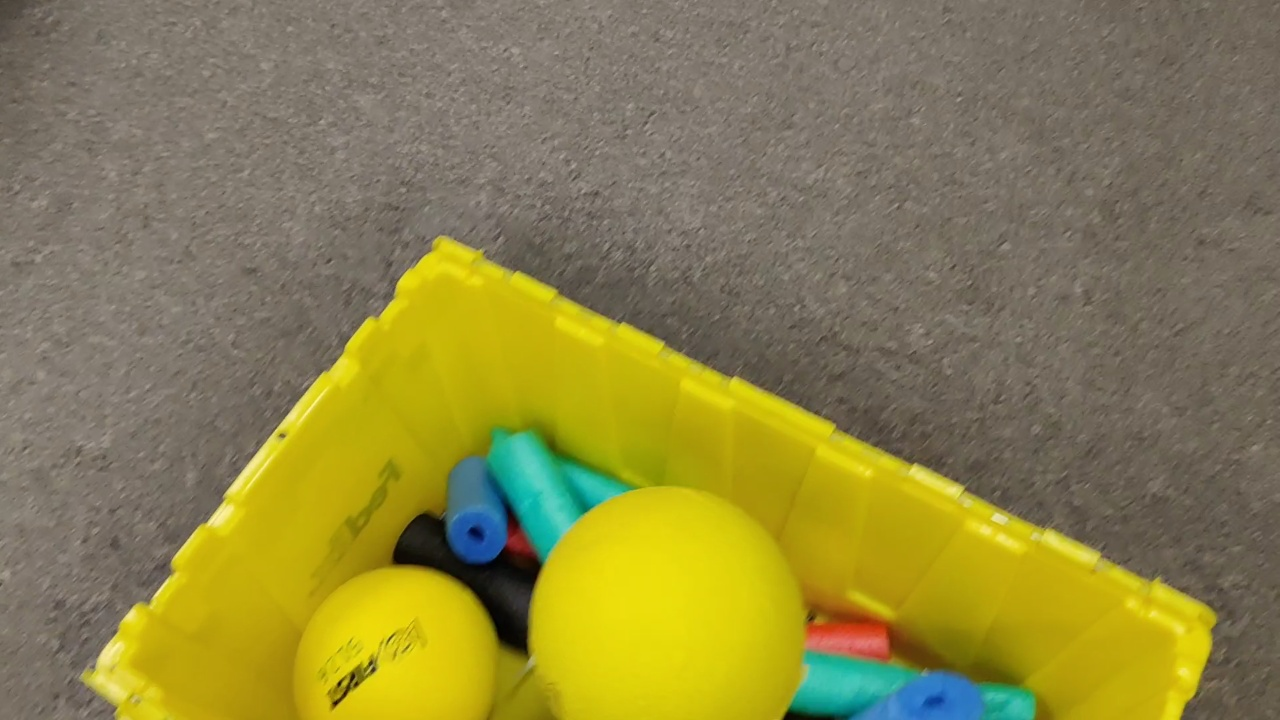Ball: (528, 488, 803, 720), (293, 567, 502, 720)
